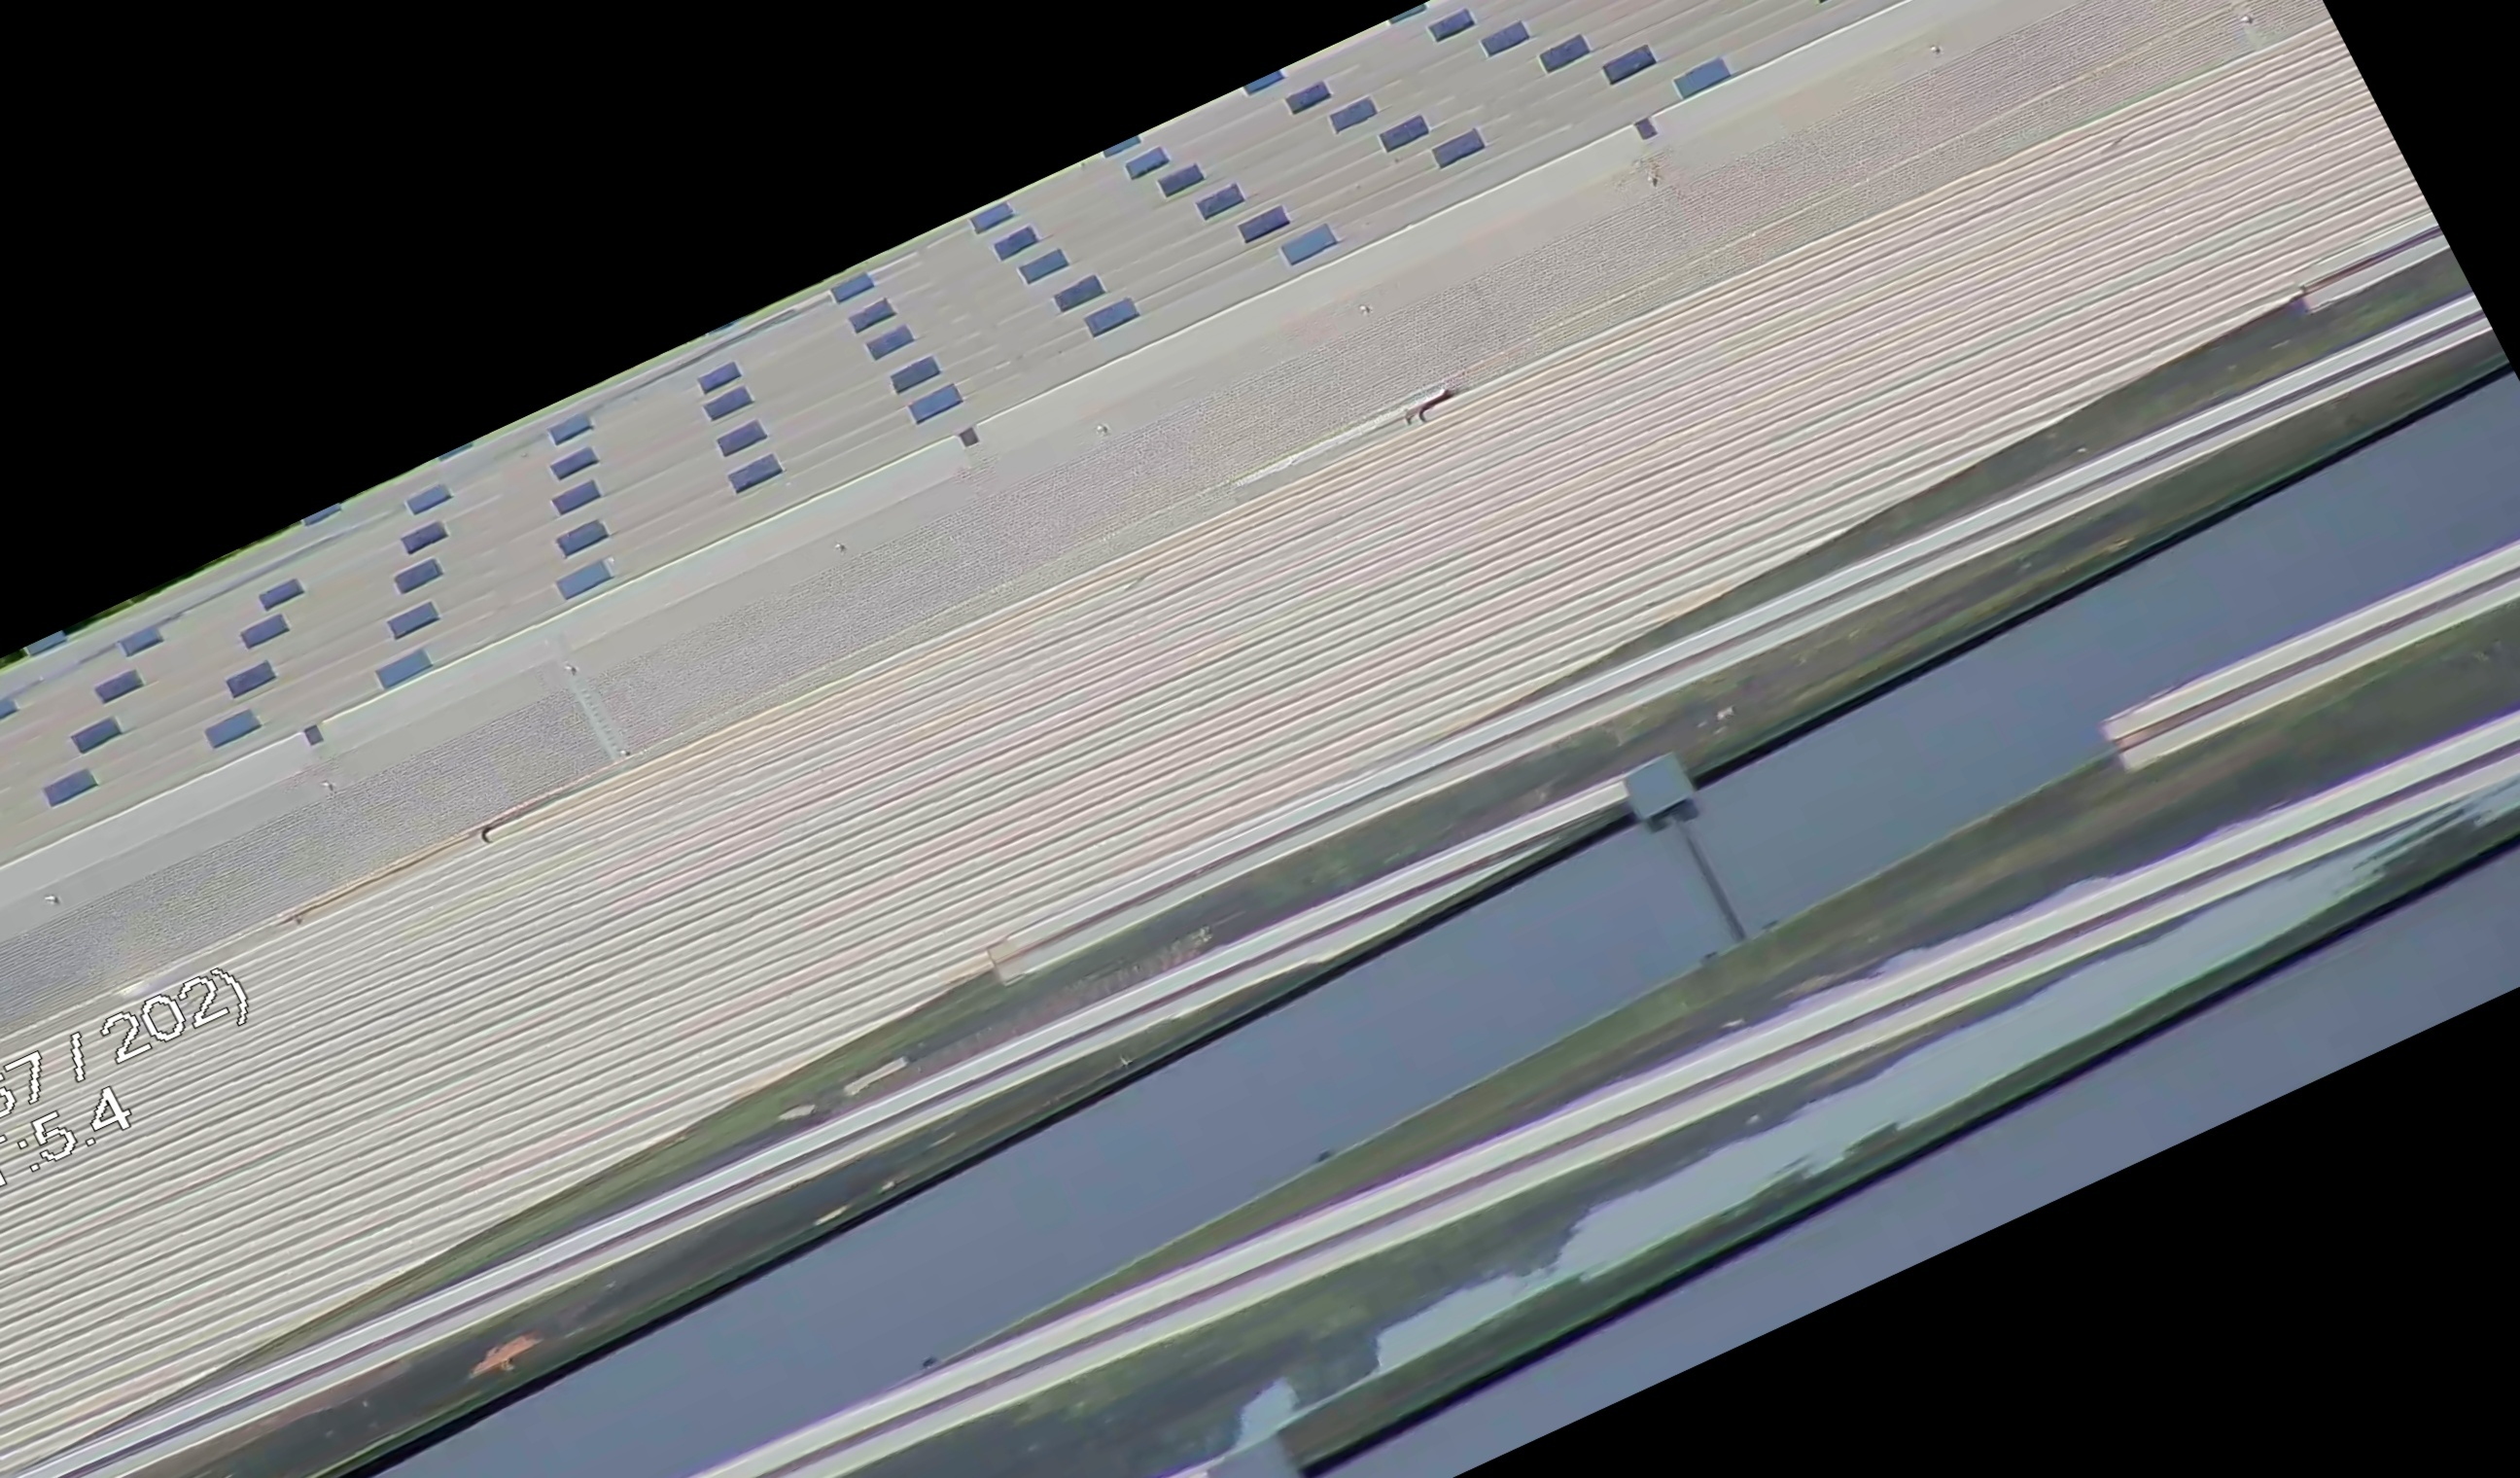Other: (703, 160, 907, 311)
